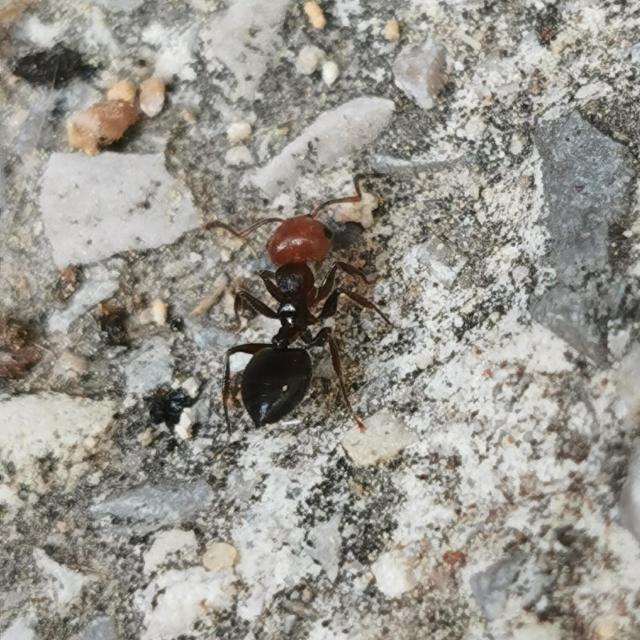Crematogaster: (212, 196, 364, 432)
